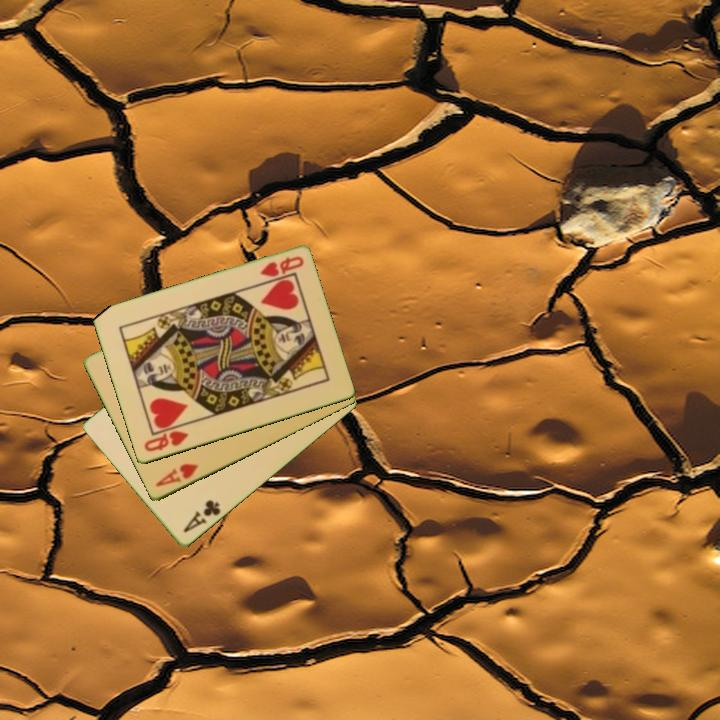Ac: (180, 496, 224, 536)
Ah: (152, 460, 201, 490)
Qh: (140, 427, 191, 455), (256, 253, 307, 280)
